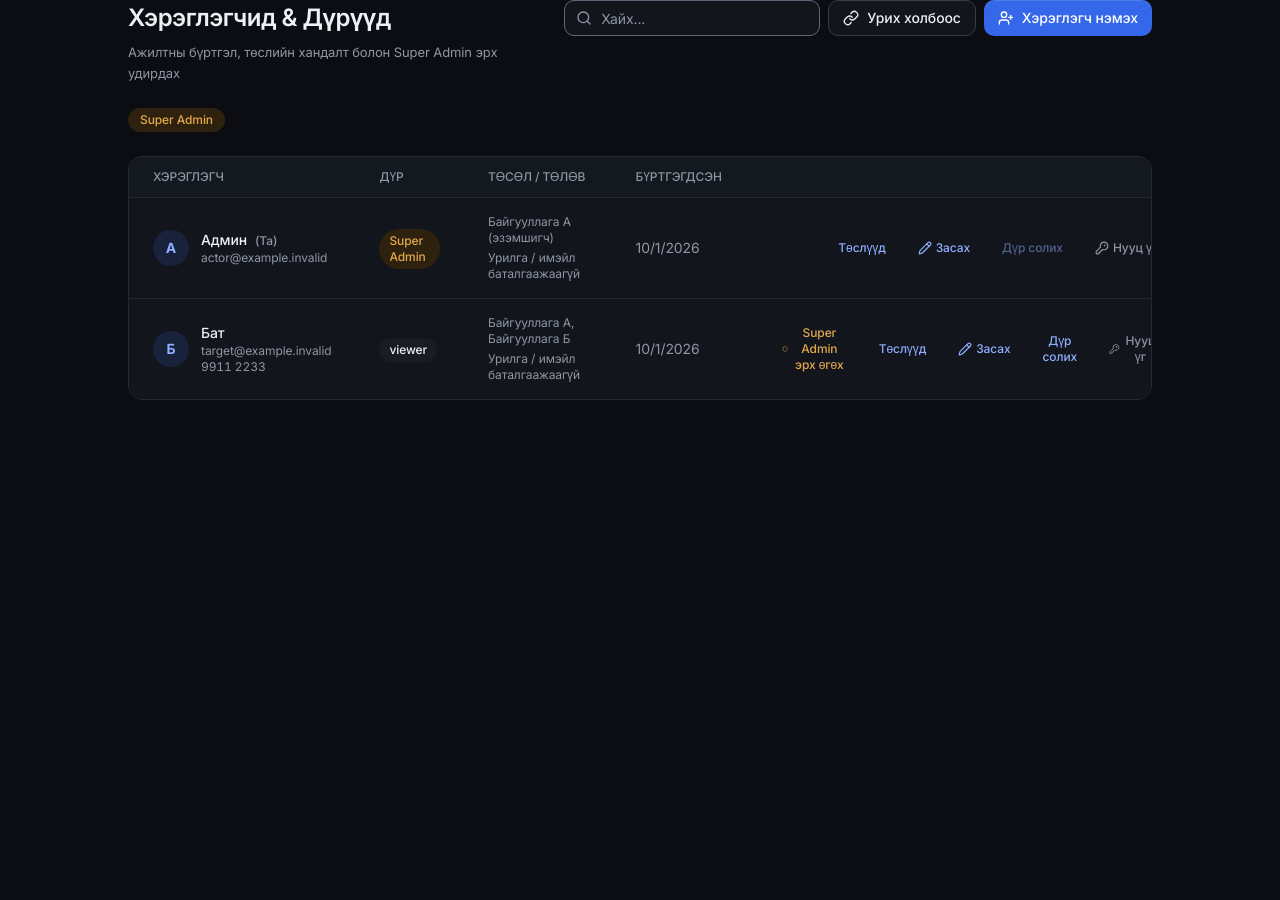
Test: requires deliberate role selection when only the Super Admin fallback is available
Click the button "Хэрэглэгч нэмэх" at (1068, 18), box [984, 0, 1152, 36]
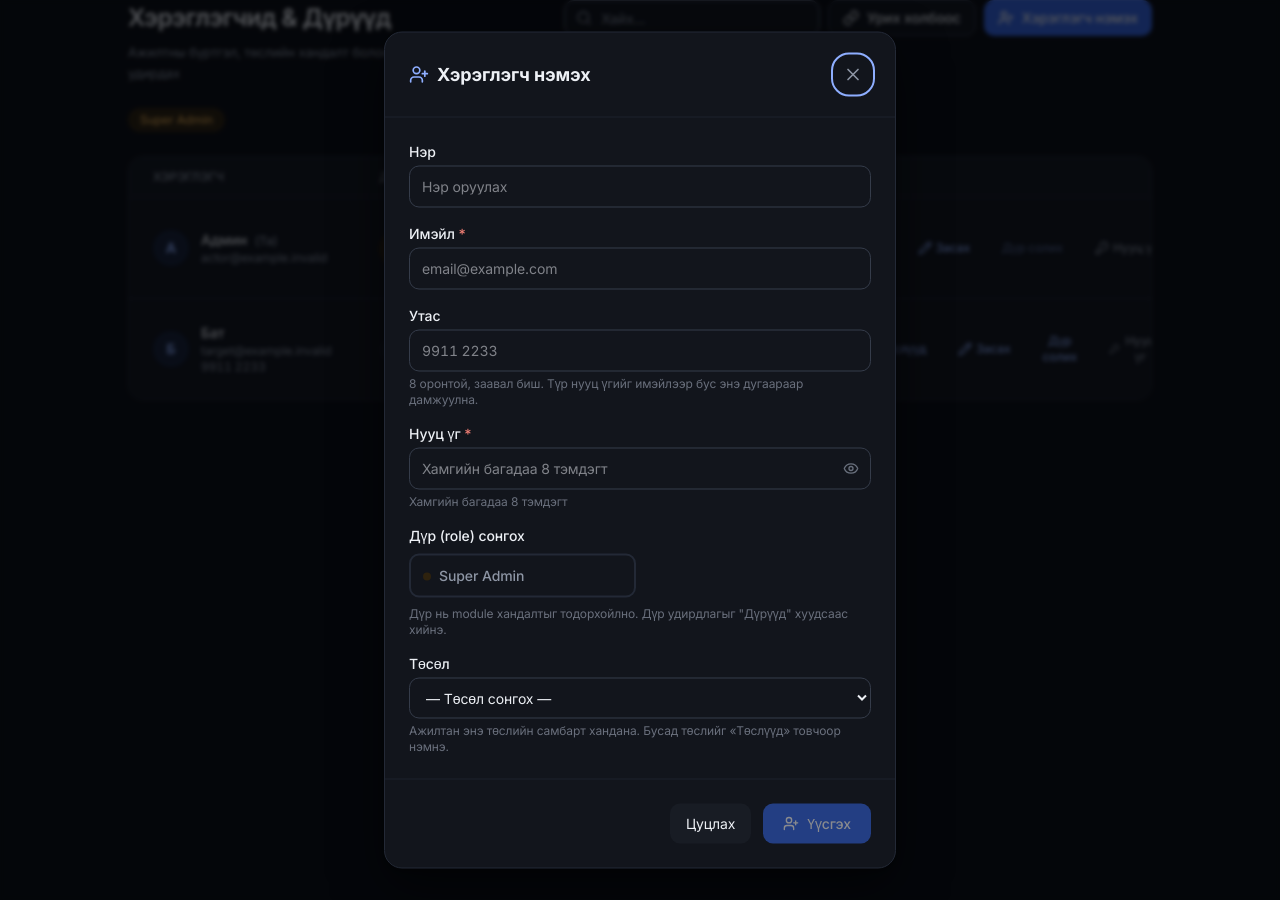
Type "new@example.invalid" into the field with placeholder "email@example.com" at (640, 268), box [409, 248, 871, 290]
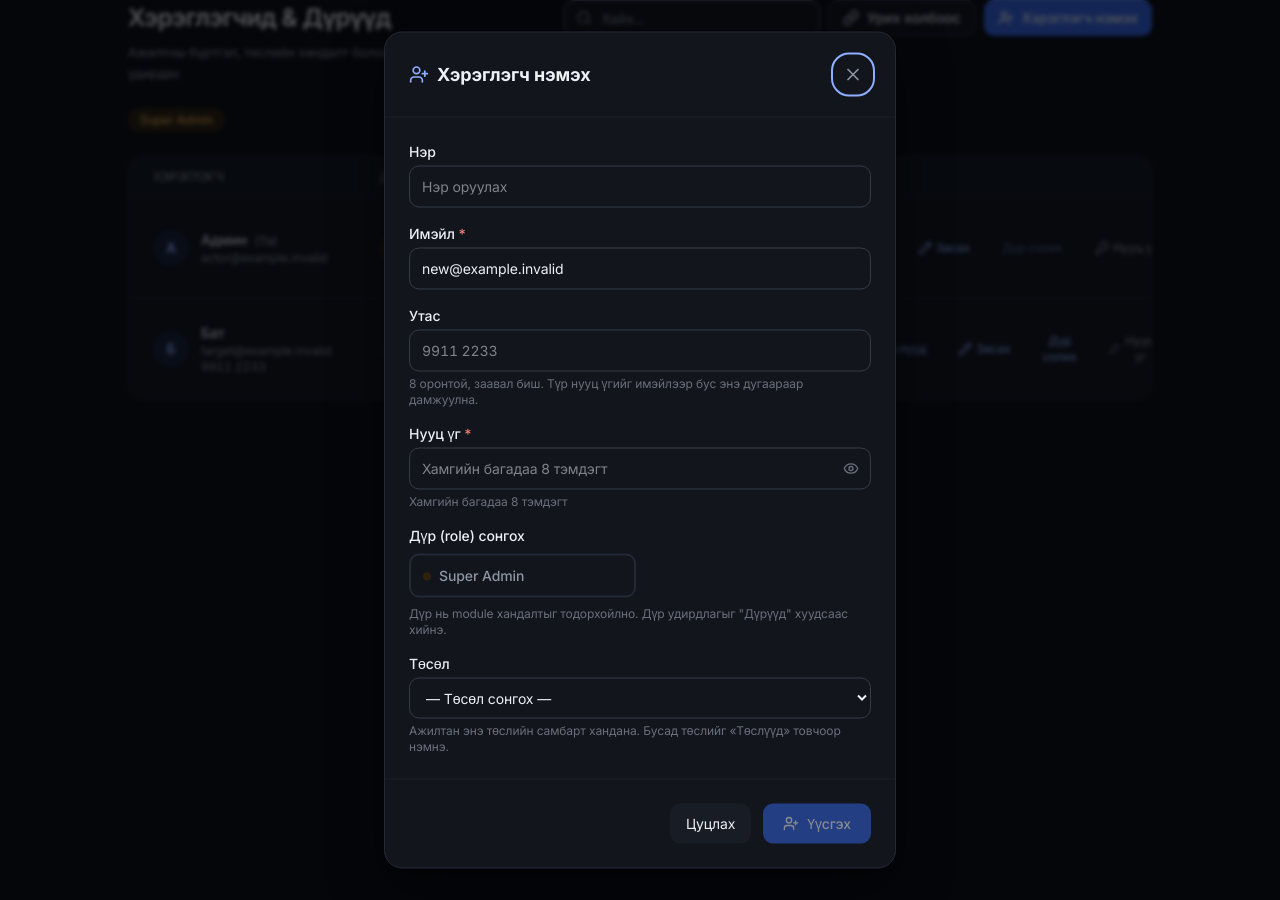
Type "valid-password" into the password field with placeholder "Хамгийн багадаа 8 тэмдэгт" at (640, 468), box [409, 448, 871, 490]
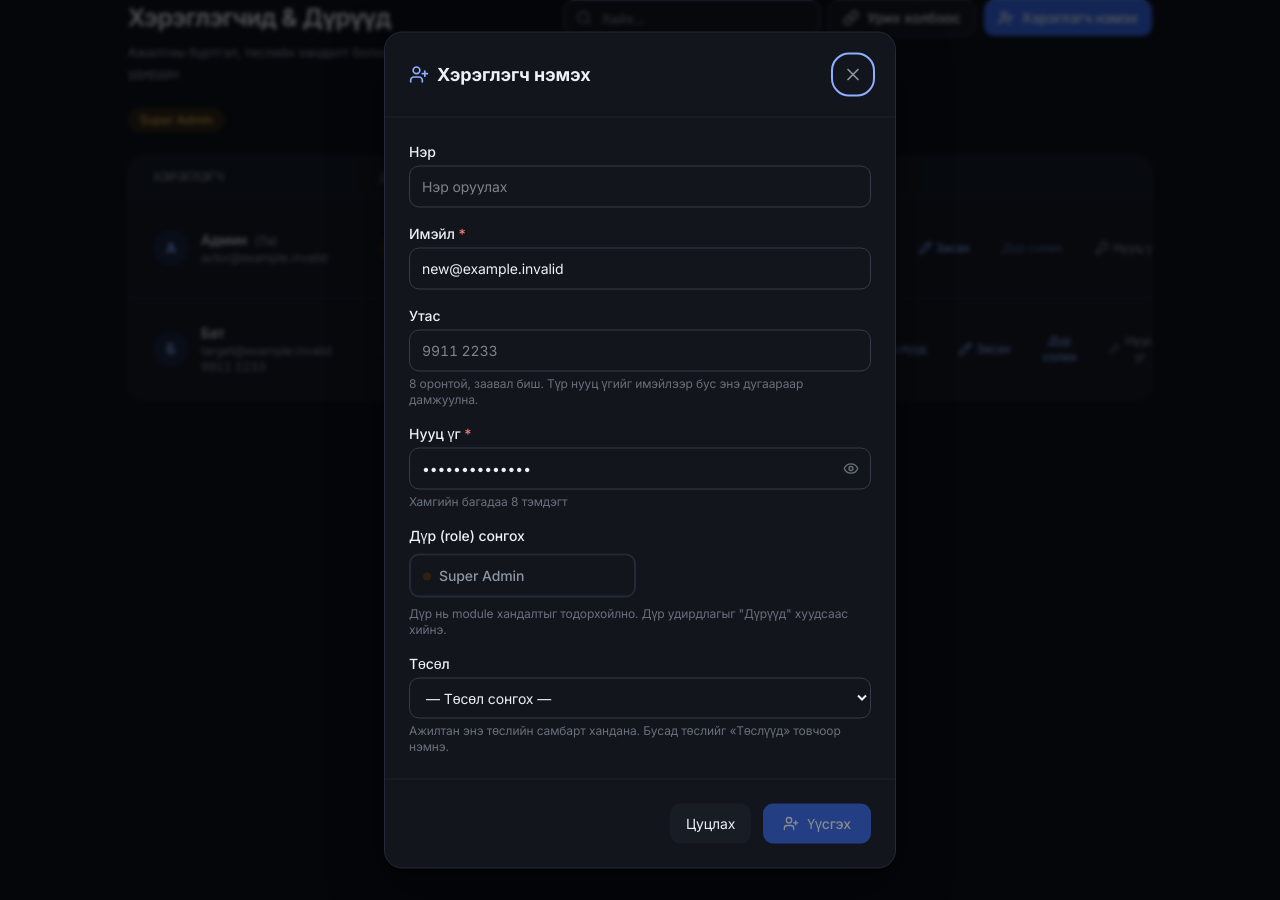
Select "Байгууллага А" in the dropdown labelled "Төсөл" at (640, 698), box [409, 678, 871, 718]
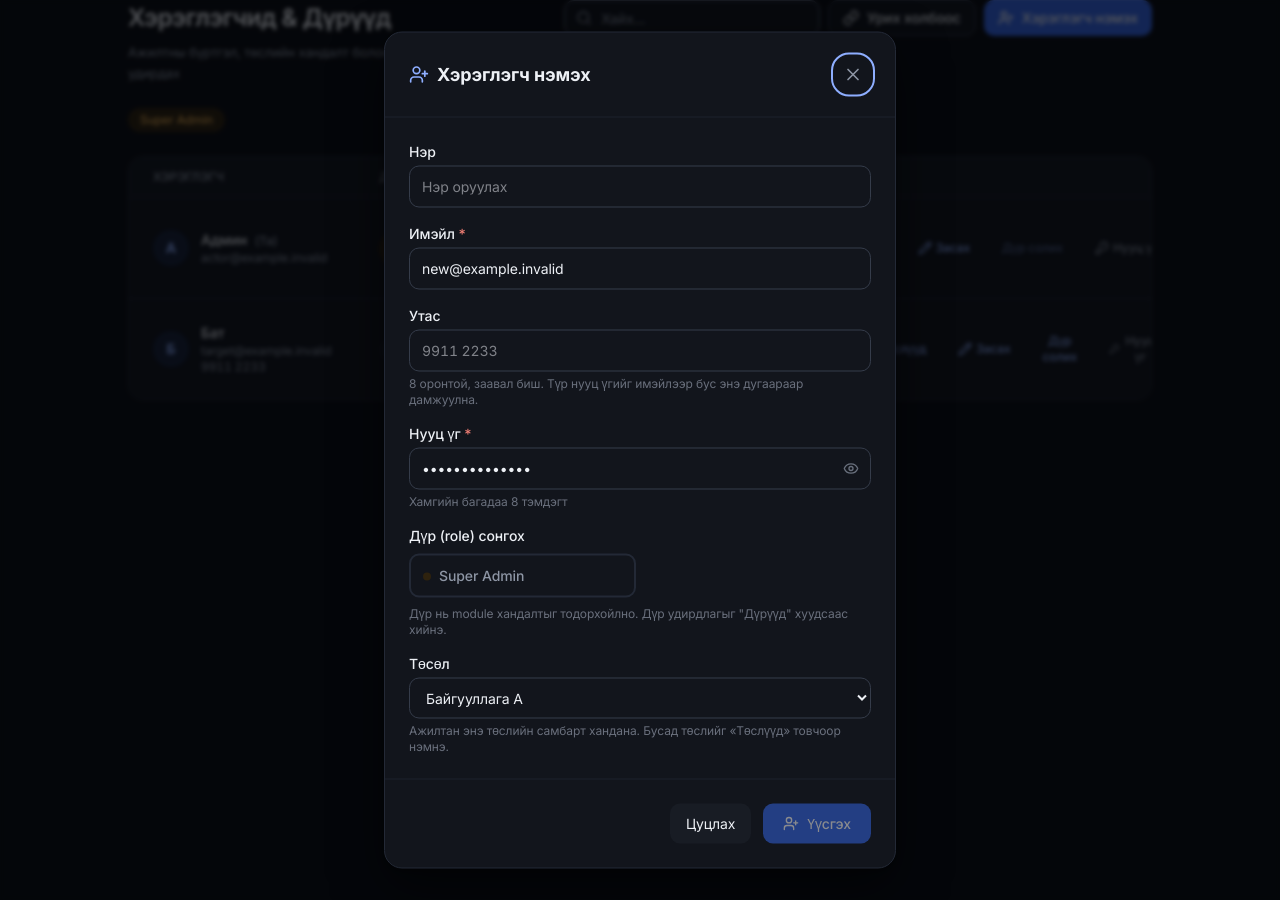
Now the button "Үүсгэх" is disabled, box [763, 804, 871, 844]
Click the button "Super Admin" at (522, 576), box [409, 554, 636, 598]
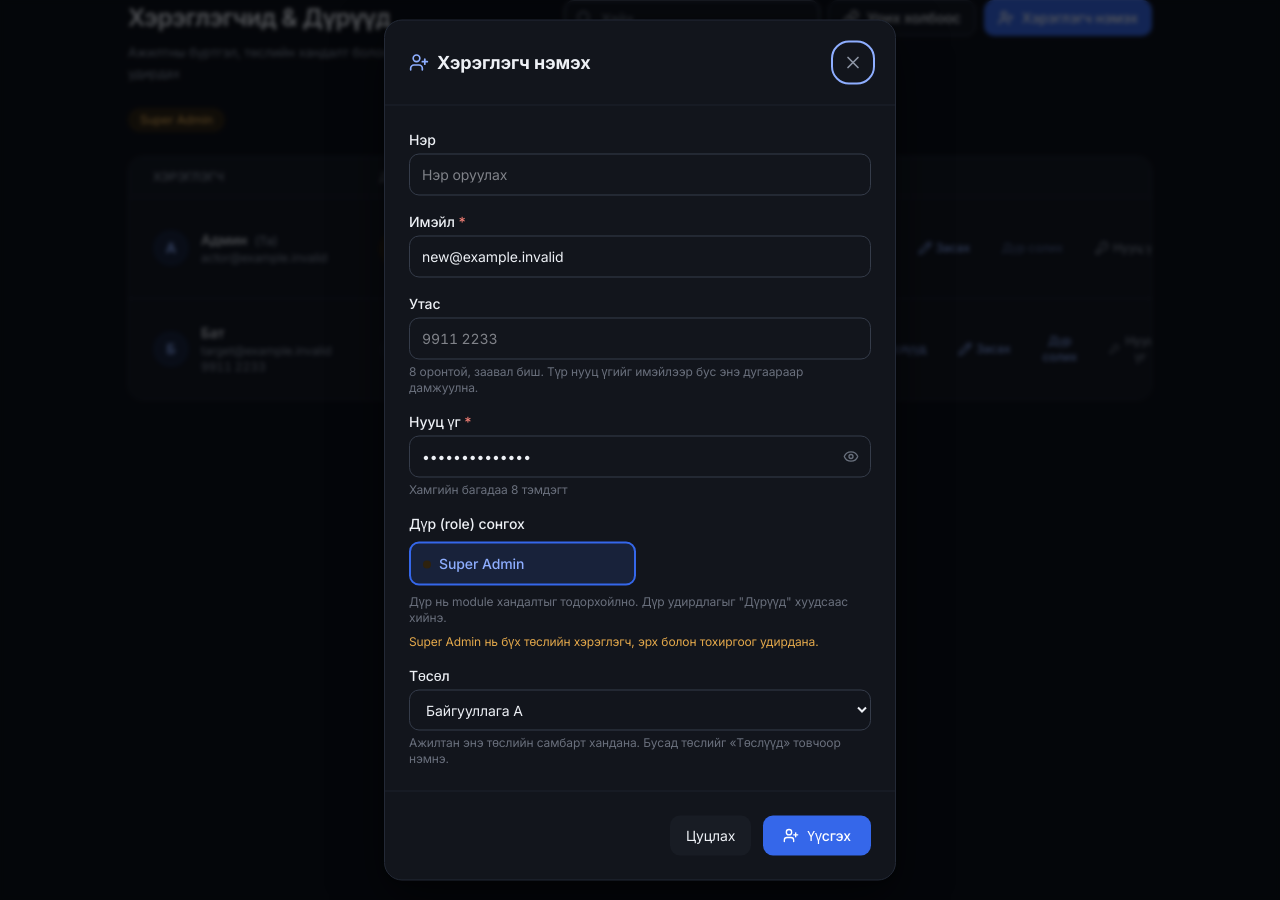
Now the button "Үүсгэх" is enabled, box [763, 816, 871, 856]
